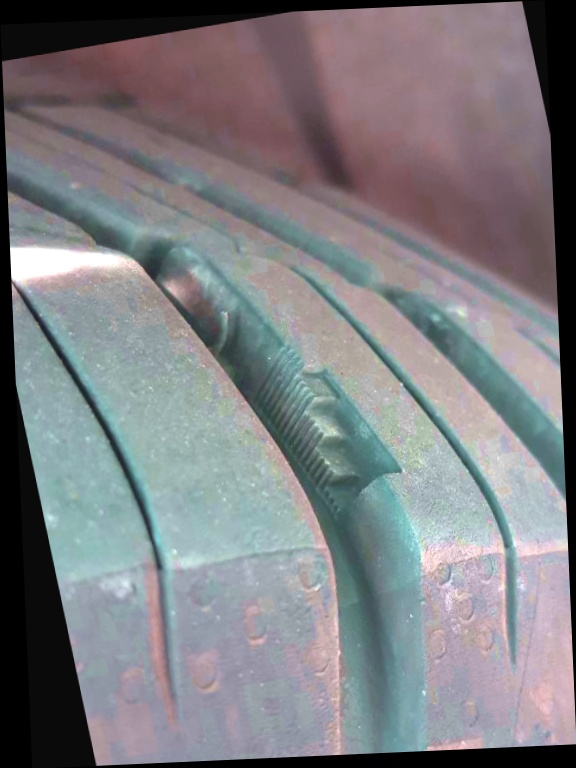temoin:90: (235, 318, 420, 542)
